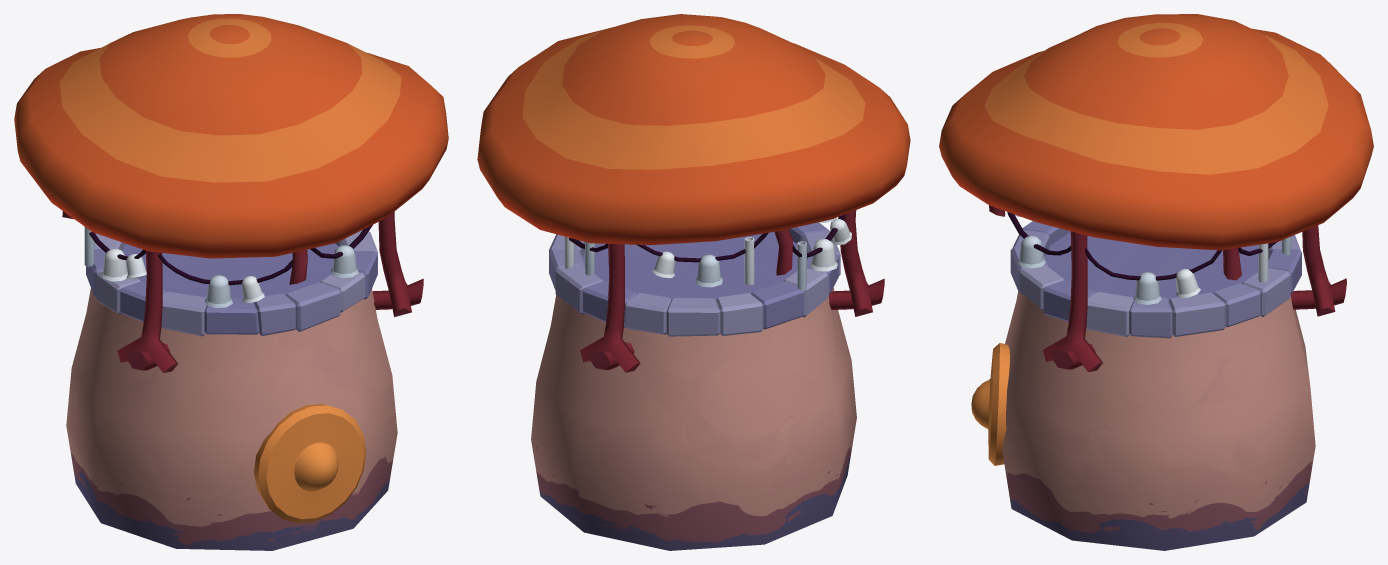
The model's file is S_House4.fbx.
The picture shows the model from 3 angles, left to right: view 1: azimuth 30°, elevation 25°; view 2: azimuth 150°, elevation 25°; view 3: azimuth 270°, elevation 25°; orthographic projection.
Parts seen in each view (by area): view 1: S_House4; view 2: S_House4; view 3: S_House4.
Part boxes in pixels (x1,y1,x2,y2): S_House4: (14,14,448,550); S_House4: (477,14,910,550); S_House4: (939,14,1373,550).
Size of the model in its own units: 700 by 799 by 700.
